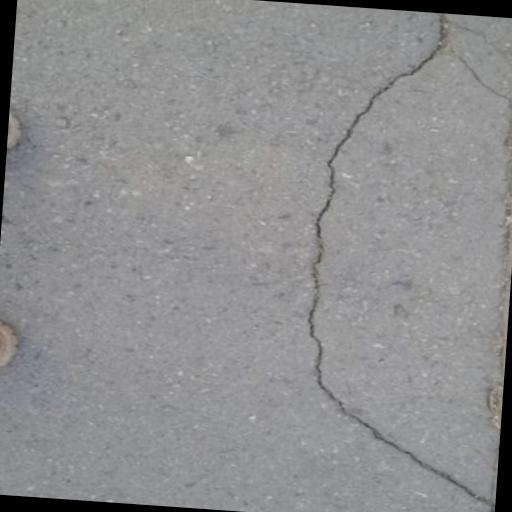spalling: (293, 15, 490, 512)
